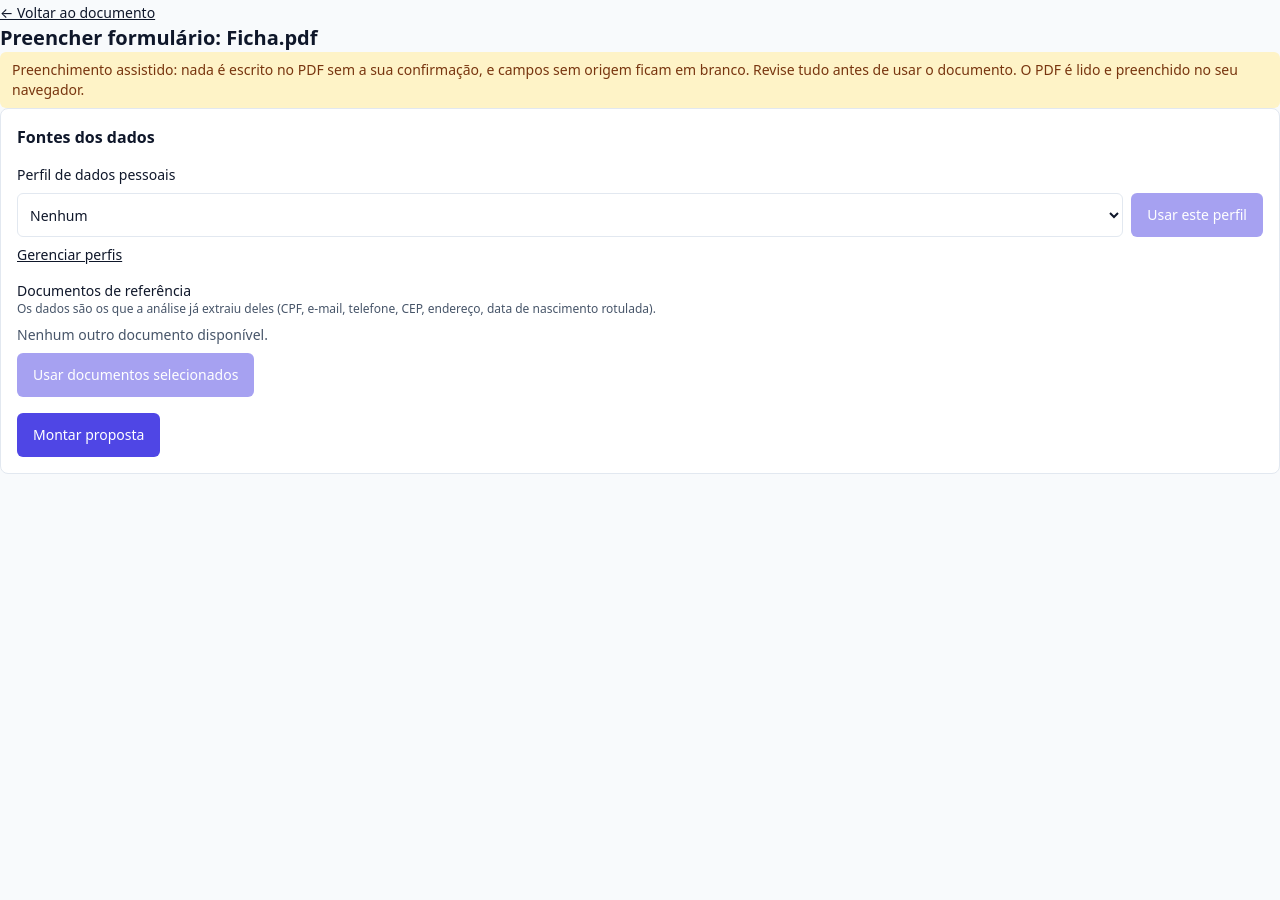
FillFormPage › propõe sem escrever nada; campo ausente e de outra pessoa ficam em branco
The width and height of the screenshot is (1280, 900).
Check: the heading "Fontes dos dados" is shown, box 17,126 -> 155,148
Select "Pessoal" in the dropdown labelled "Perfil de dados pessoais" at coordinates (570, 215), box 17,193 -> 1123,237
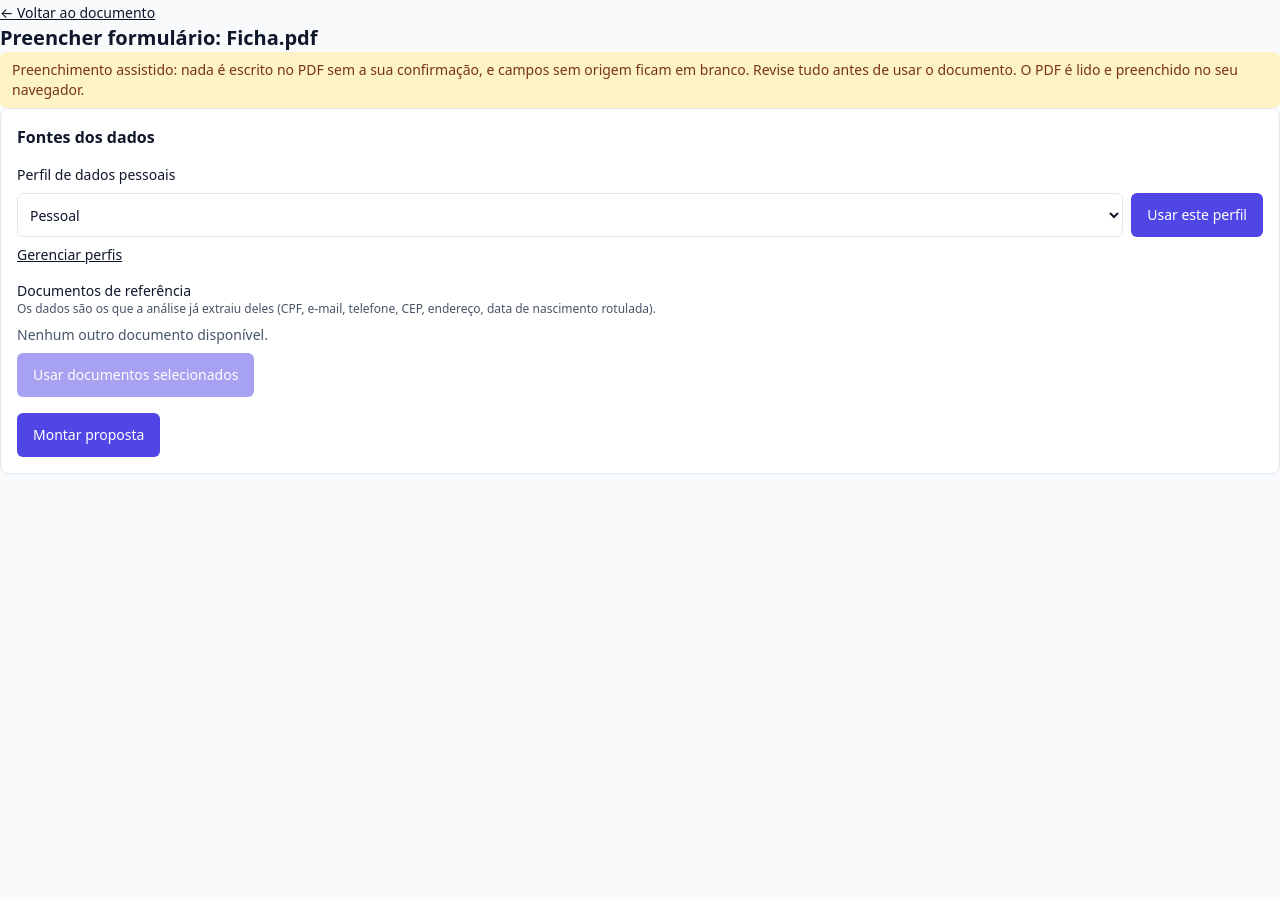
Click the button "Usar este perfil".
click(1197, 215)  # box 1131,193 -> 1263,237
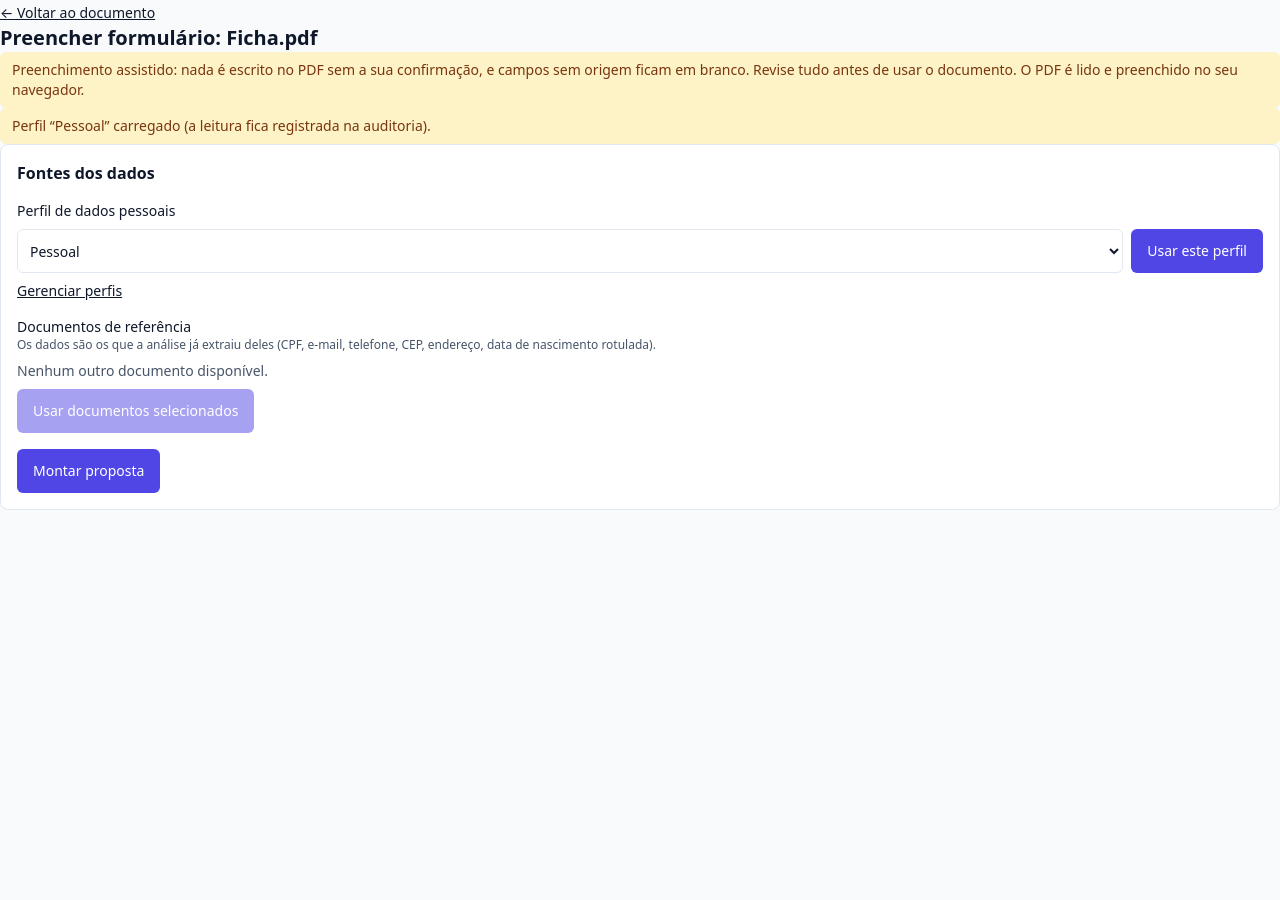
Check: the text "Perfil “Pessoal” carregado (a leitura fica registrada na auditoria)." is shown, box 0,108 -> 1279,144
Click the button "Montar proposta".
click(89, 471)  # box 17,449 -> 160,493
(page scrolled)
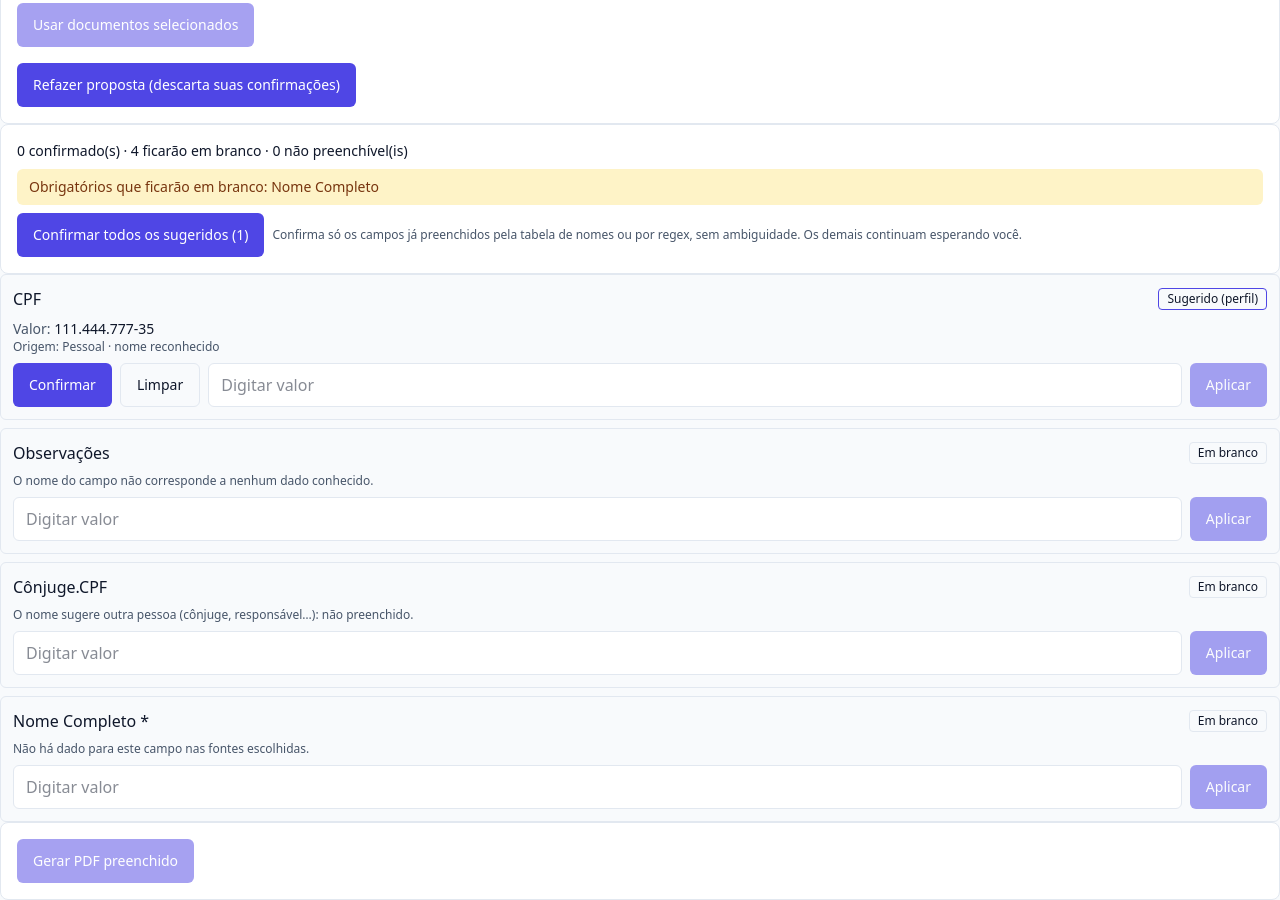
Check: the text "Sugerido (perfil)" is shown, box 1158,288 -> 1267,310
Check: the text "Em branco" is shown 3 times, box 1189,442 -> 1267,464; 1189,576 -> 1267,598; 1189,710 -> 1267,732
Check: the text "não preenchido" is shown, box 13,606 -> 413,623
